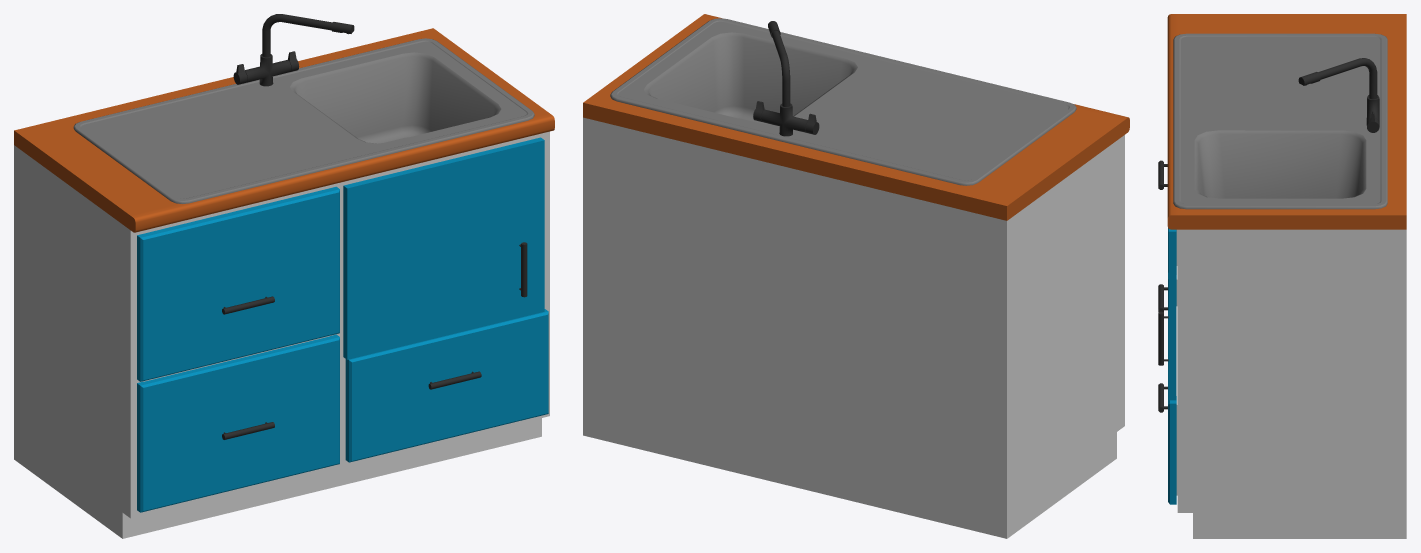
File: Kitchen_Sink.fbx
3 views of the same model, side by side, from view 1: azimuth 30°, elevation 25°; view 2: azimuth 150°, elevation 25°; view 3: azimuth 270°, elevation 25° (orthographic). The views are drawn at different scales.
Visible parts, largest first — view 1: Shelves, Door_01, Drawer_01, Drawer_02, Drawer_03; view 2: Shelves; view 3: Shelves, Door_01, Drawer_03, Drawer_01.
Part boxes in pixels (x1=…): Shelves: x1=14, y1=14, x2=554, y2=538; Door_01: x1=343, y1=137, x2=544, y2=359; Drawer_01: x1=137, y1=186, x2=339, y2=381; Drawer_02: x1=137, y1=334, x2=339, y2=512; Drawer_03: x1=345, y1=309, x2=548, y2=462; Shelves: x1=583, y1=14, x2=1129, y2=538; Shelves: x1=1167, y1=14, x2=1406, y2=538; Door_01: x1=1158, y1=229, x2=1176, y2=400; Drawer_03: x1=1158, y1=310, x2=1177, y2=504; Drawer_01: x1=1158, y1=160, x2=1177, y2=274.
Bounding box in the file's own units: 1.2 × 1.1 × 0.6253.
